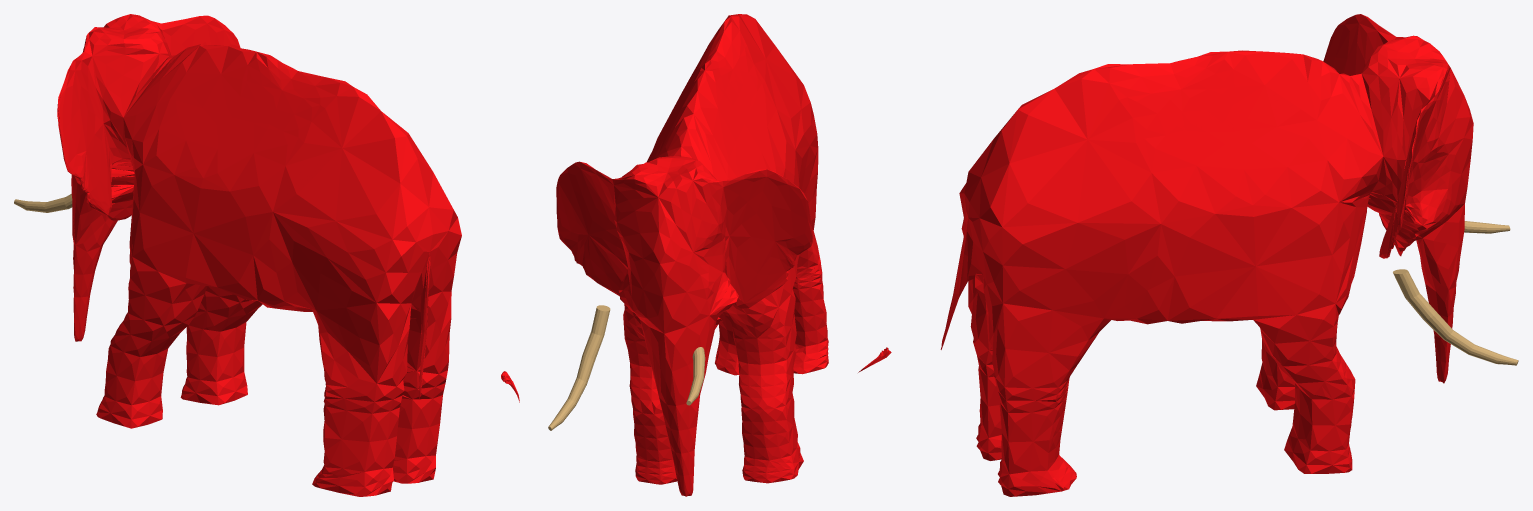
The model's file is elephant.obj.
3 renders of one model, left to right at view 1: azimuth 30°, elevation 25°; view 2: azimuth 150°, elevation 25°; view 3: azimuth 270°, elevation 25°, orthographic. The views are drawn at different scales.
Size of the model in its own units: 9.1 by 13.22 by 19.
